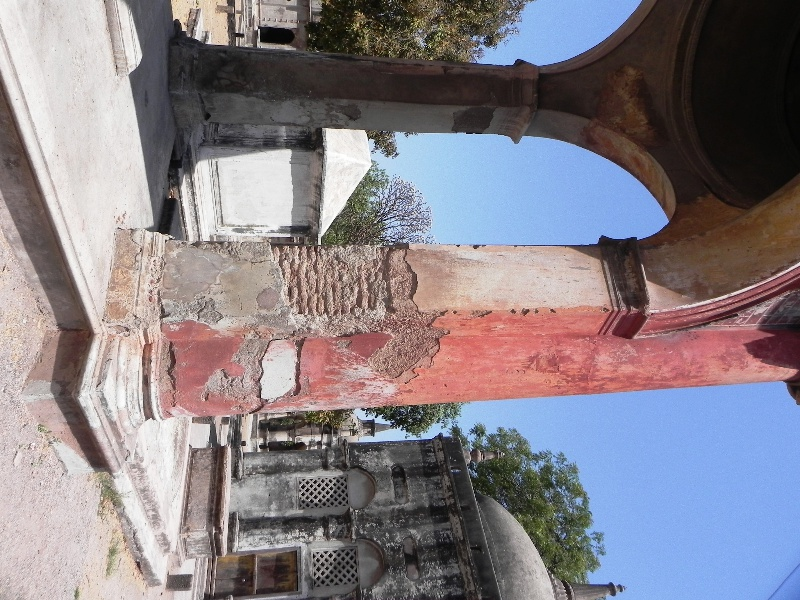Exposed Bricks: (273, 244, 394, 319)
Spalling: (367, 315, 453, 389), (151, 291, 183, 412)
